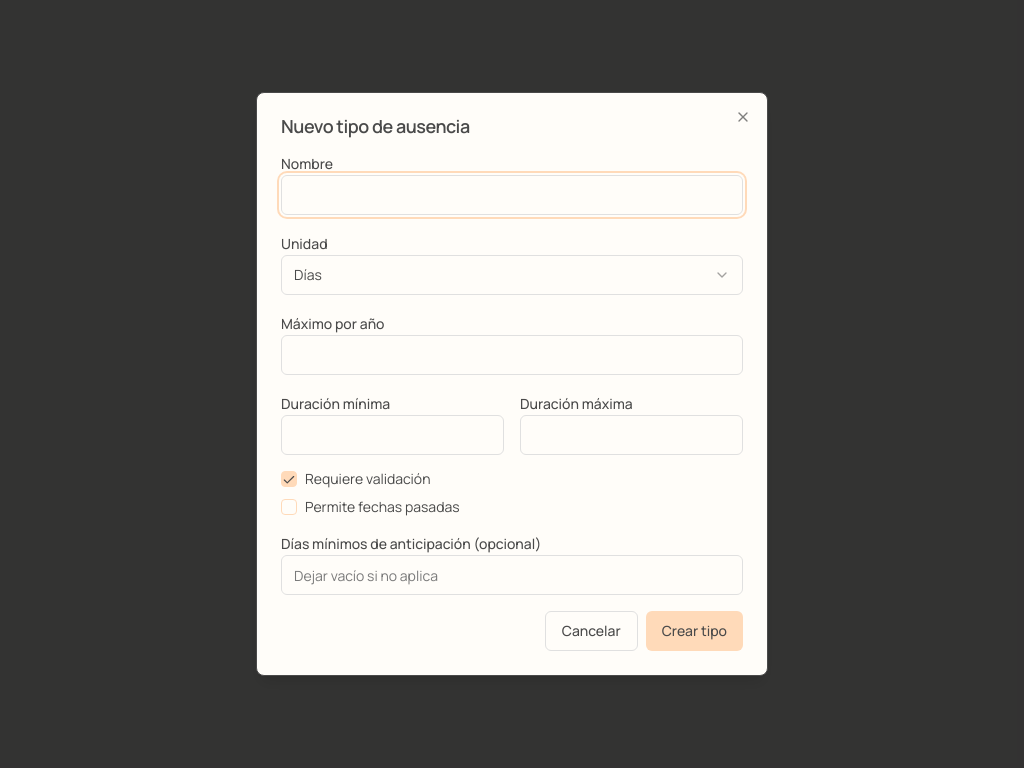
it: AbsenceTypeFormDialog: modo crear › oculta campo de días mínimos cuando requiresValidation es false
Click the checkbox named "Requiere validación" next to "Requiere validación" at {"x": 289, "y": 479}, box [281,471,297,487]
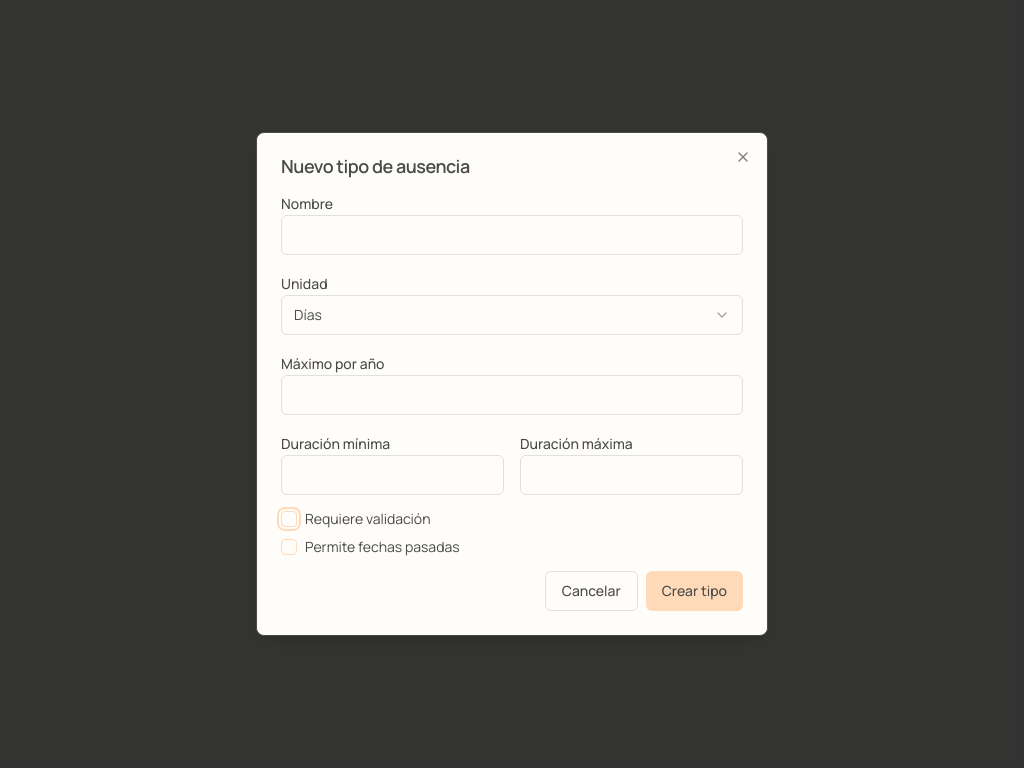
Expected: the label labelled "Días mínimos de anticipación" is gone
